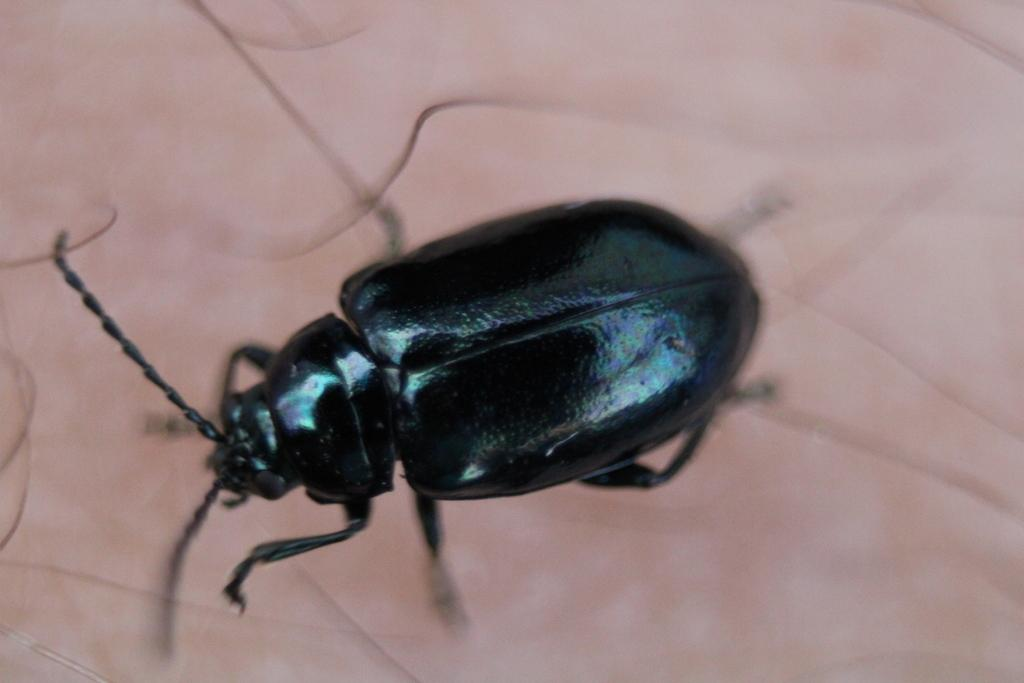flea_beetle: (1, 125, 837, 651)
